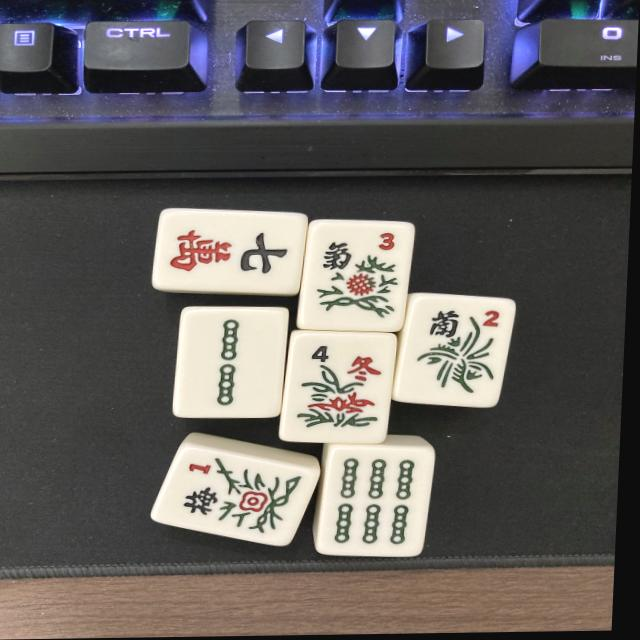f1: (159, 450, 314, 549)
f2: (394, 295, 511, 407)
f3: (304, 221, 409, 327)
ff4: (285, 334, 396, 445)
m7: (157, 216, 303, 288)
s2: (173, 310, 285, 421)
s6: (320, 447, 431, 557)
